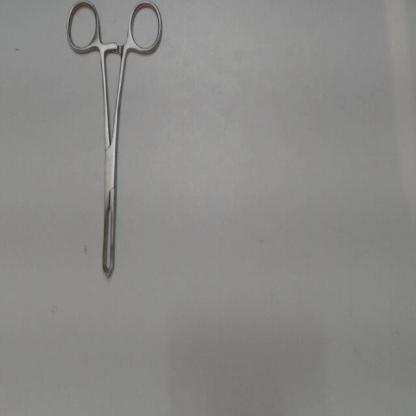Allis Tissue Forceps: (58, 0, 170, 292)
